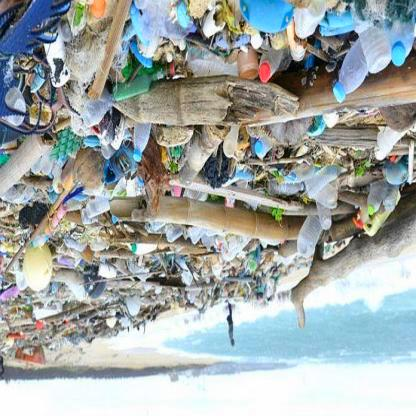Glass: (109, 63, 174, 103)
Plastic: (366, 3, 415, 73), (299, 176, 340, 256), (330, 38, 376, 109), (252, 43, 288, 85), (129, 122, 152, 161), (130, 241, 159, 258)
